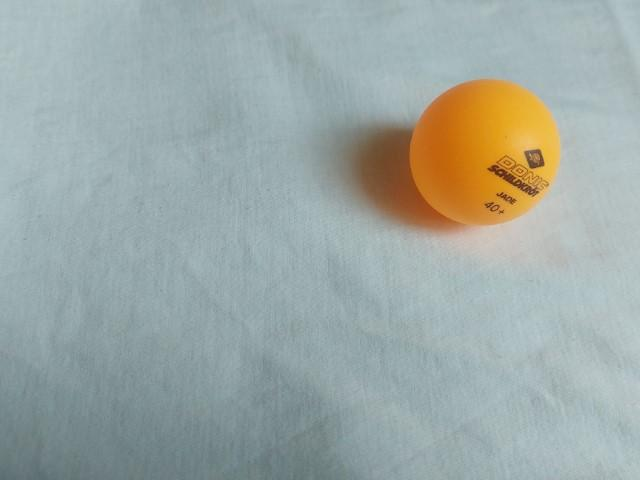oball: (400, 74, 572, 239)
